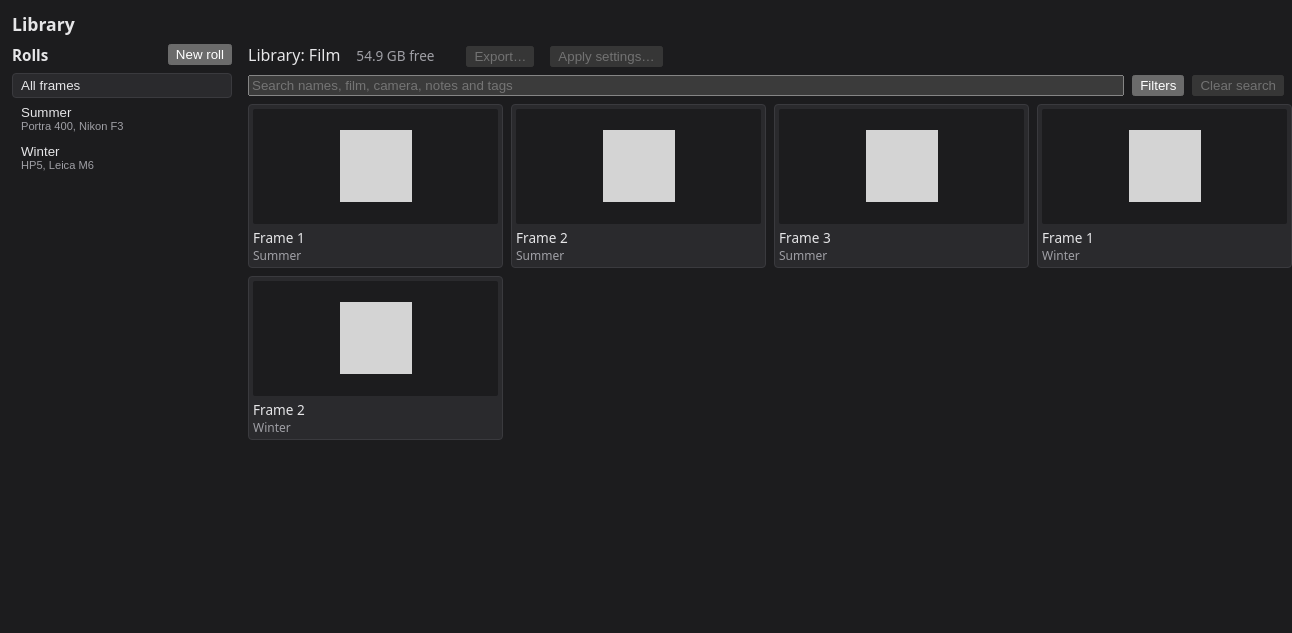
search, filters and tags in the Library view › filters › say so when the tag does not exist
This screenshot has width=1292, height=633.
Click the button "Filters". click: (1158, 86)
box: x1=1132 y1=75 x2=1184 y2=96
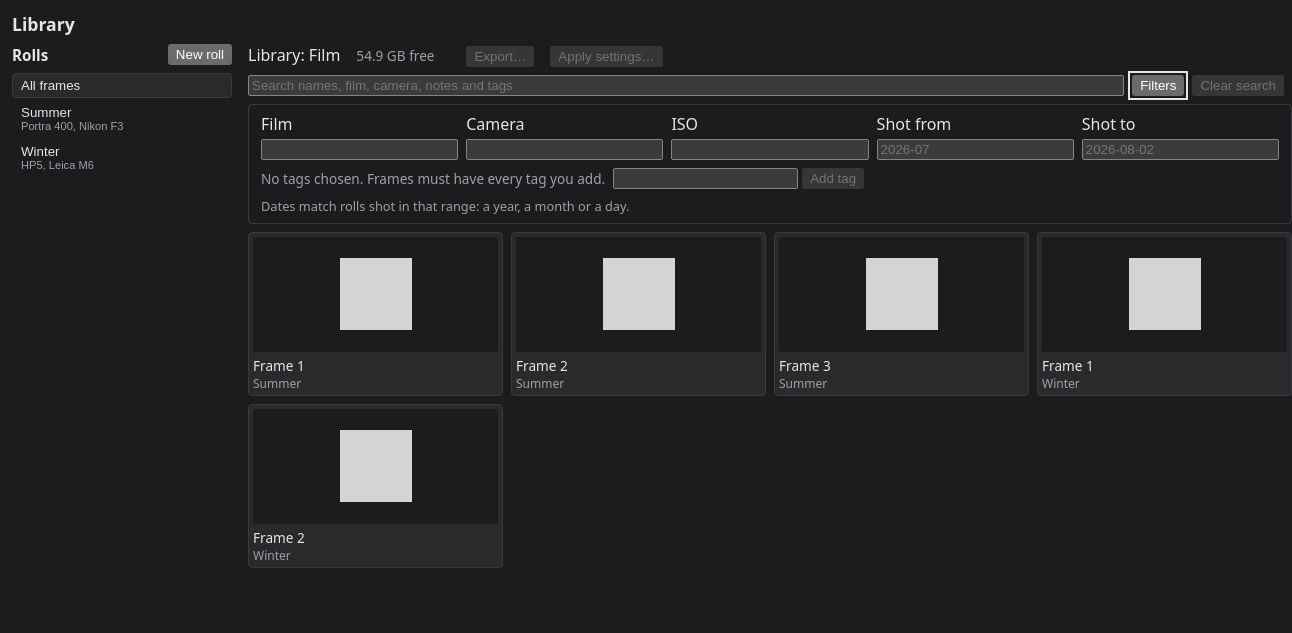
Type "nowhere" into the field named "Tag to match". click: (706, 178)
box: x1=613 y1=168 x2=798 y2=189
Then press Enter
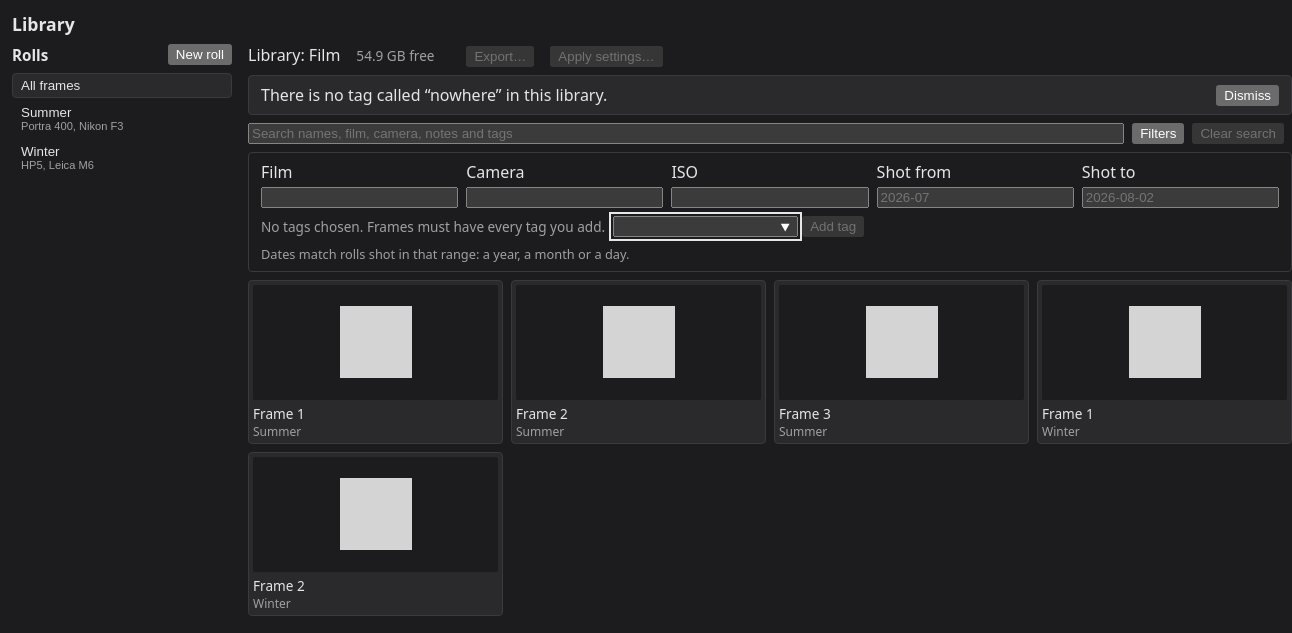
Now the text "There is no tag called “nowhere” in this library." is shown, box x1=261 y1=84 x2=607 y2=106
